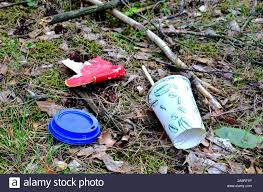paper_cup: (145, 74, 207, 150)
